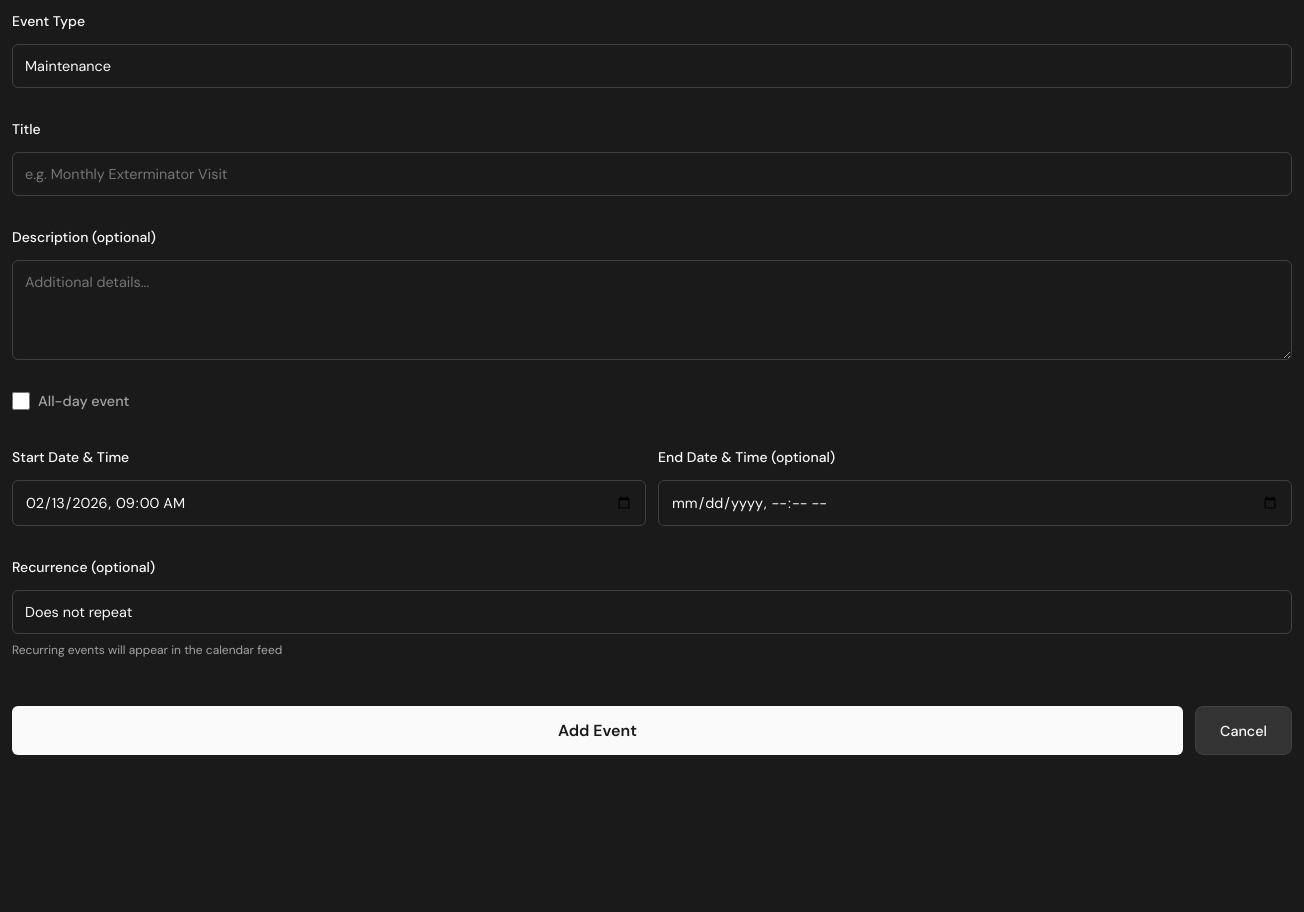
EventForm › Creating new events › should handle API error response
Type "Test Event" into the field labelled "Title".
click(652, 174); type("Test Event")  # box [12,152,1292,196]
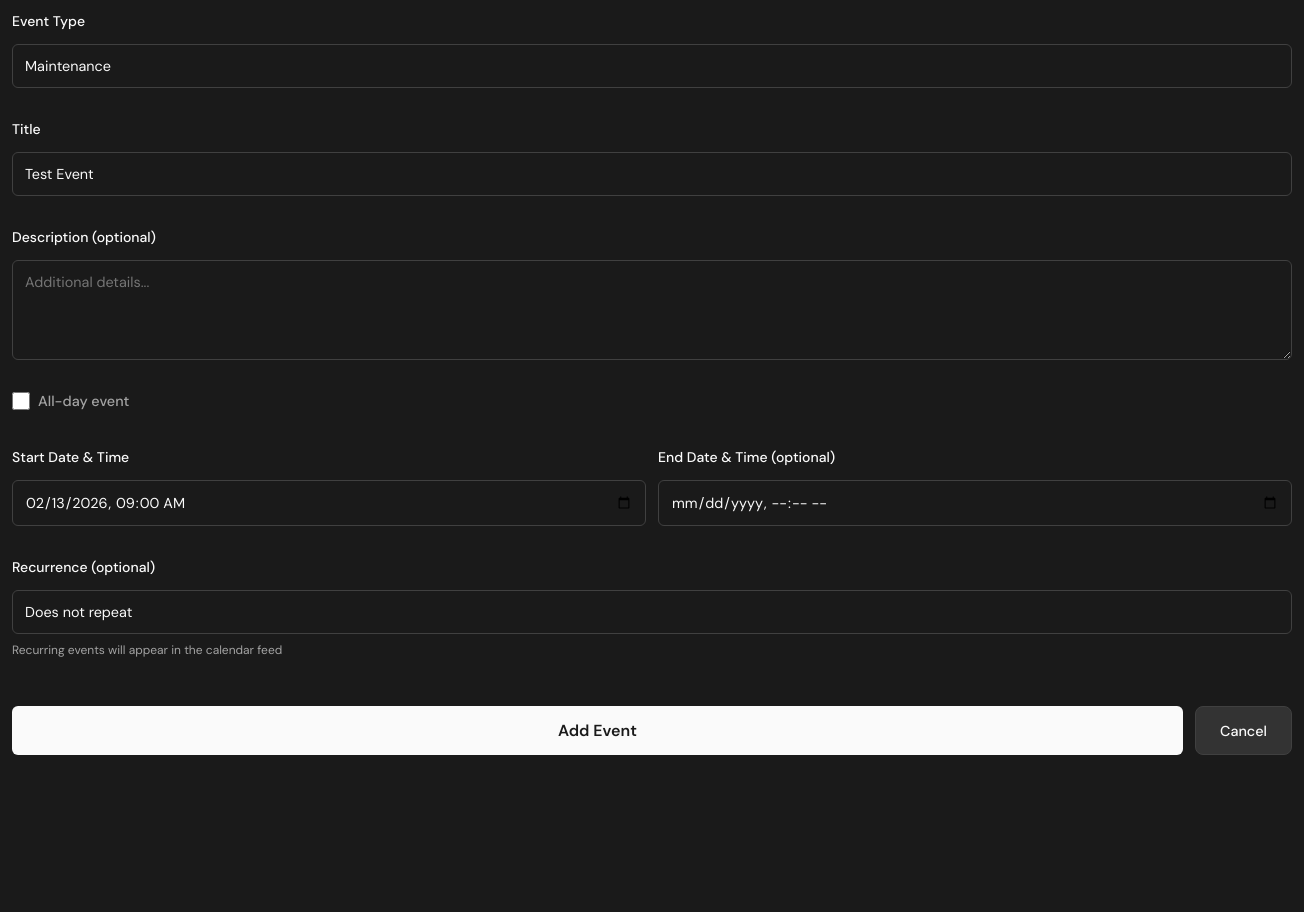
Click the button "Add Event".
click(598, 730)  # box [12,706,1183,755]
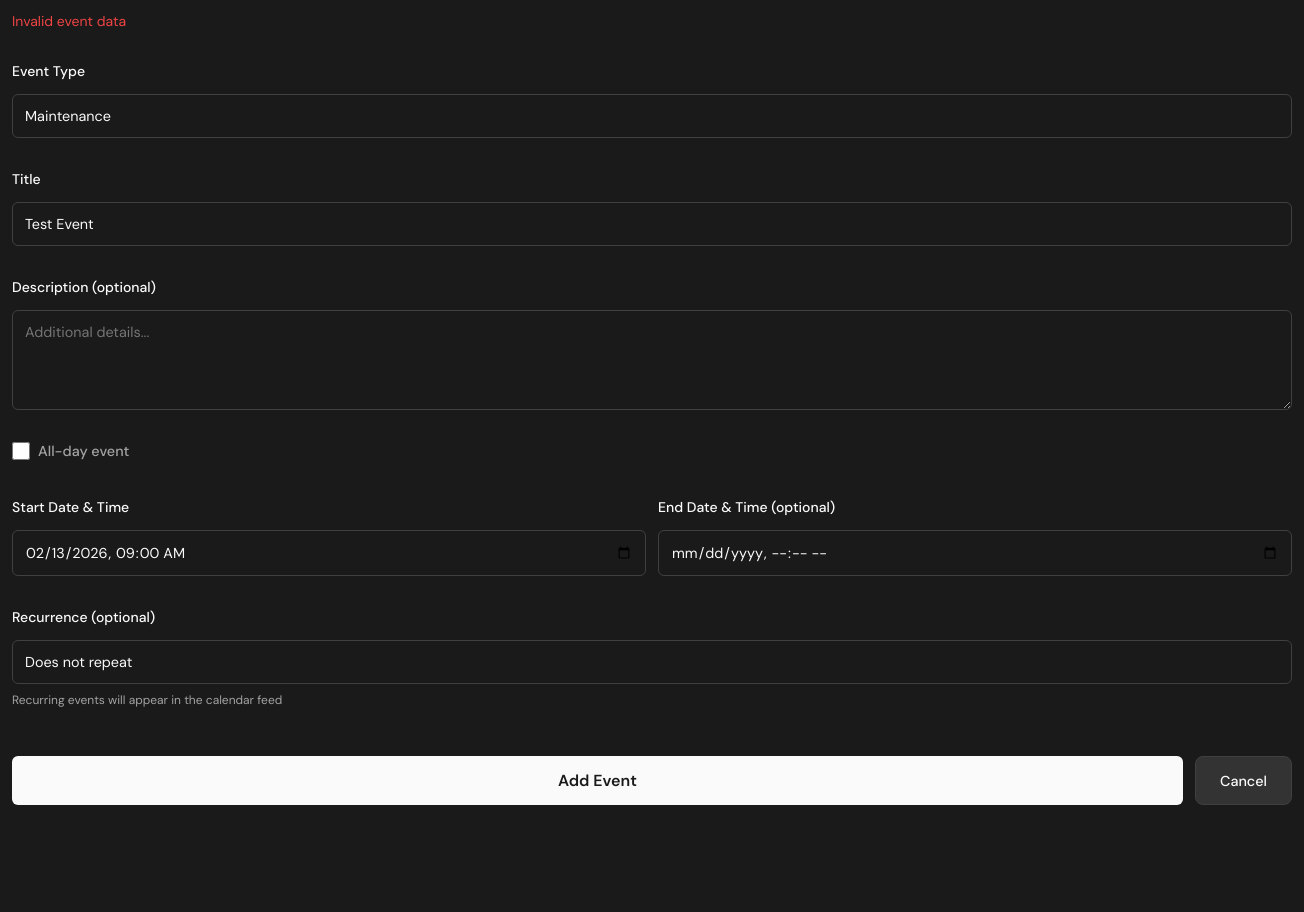
Expected: the text "Invalid event data" is shown, [12,12,126,30]
